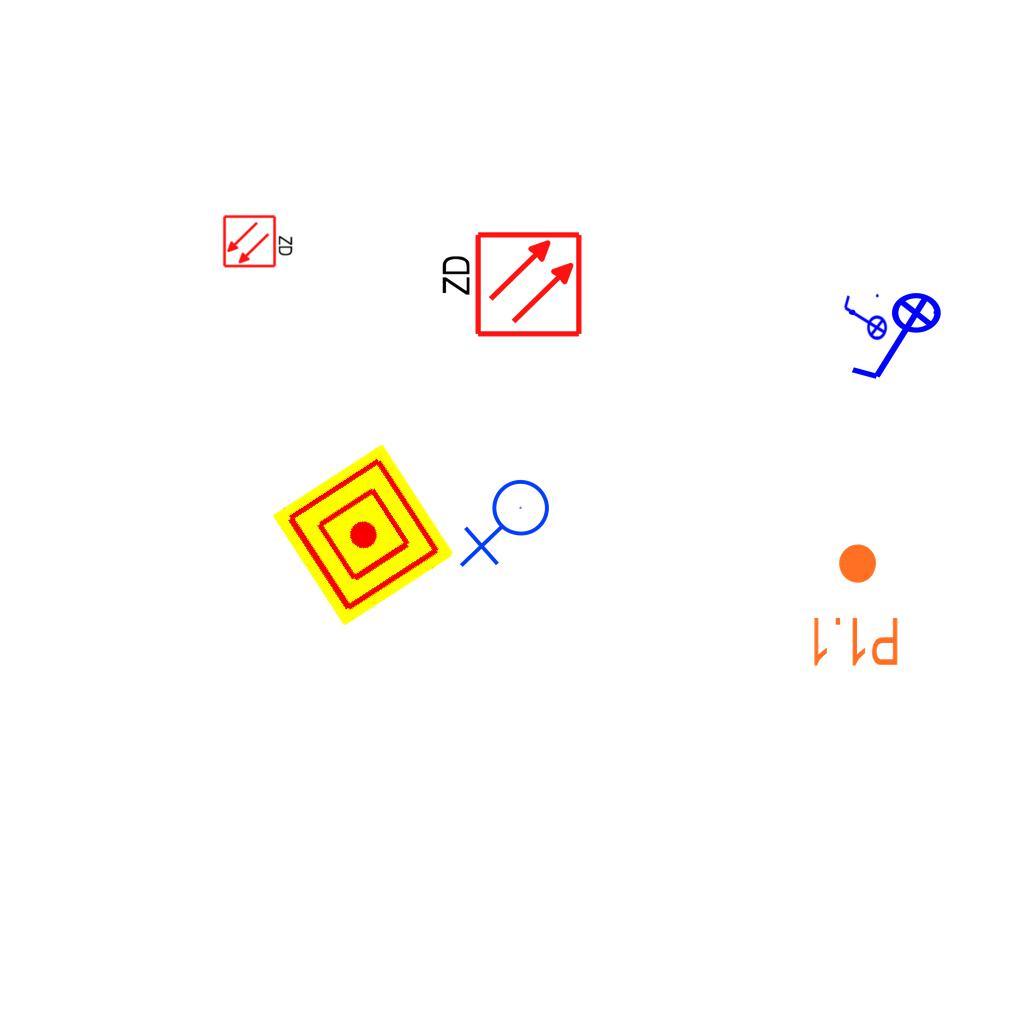Ausschalter_beleuchtet: (843, 291, 955, 387), (840, 291, 888, 347)
Downlight_LED_Einbauleuchten_Flur: (808, 541, 901, 669)
Elektroanschluss_allgemein_230V_Geraeteanschlussdose_230V: (459, 478, 558, 572)
NAM-Nichtautomatischer_Melder: (271, 443, 455, 627)
ZD_Melder_in_Zwischendecke_mit_Revisionsoeffnung_mind_40_x_40_cm: (435, 229, 584, 343), (222, 212, 296, 269)
